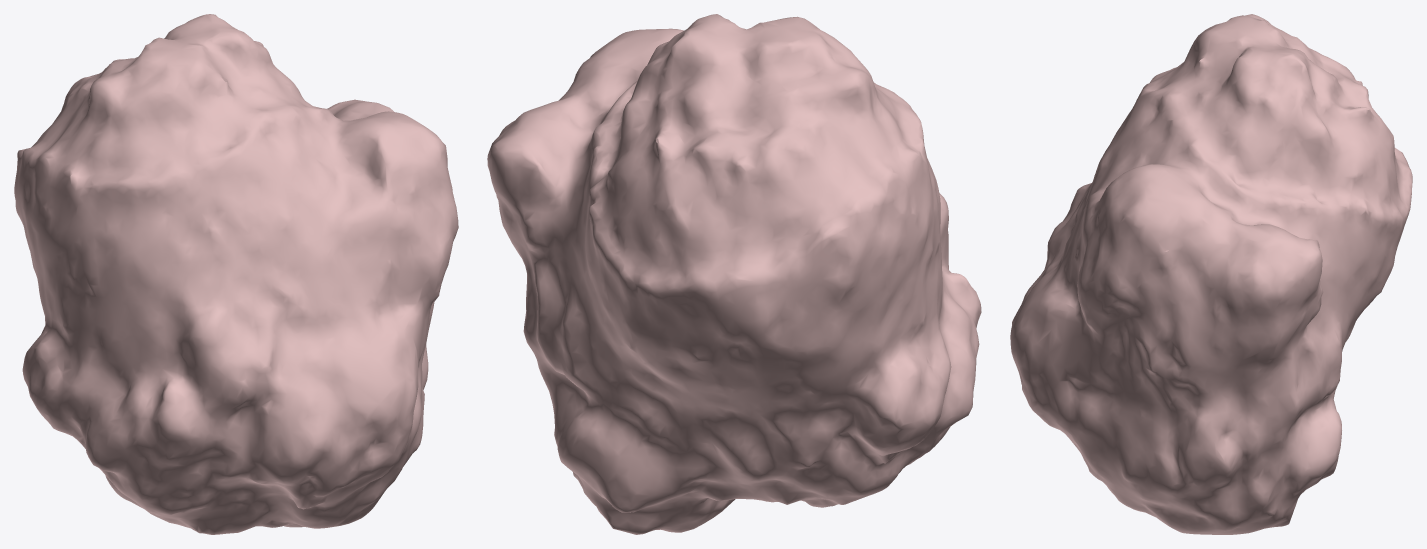
Rendered from 339809623046000_formazione_espansiva.glb.
3 views of the same model, side by side, from view 1: azimuth 30°, elevation 25°; view 2: azimuth 150°, elevation 25°; view 3: azimuth 270°, elevation 25° (orthographic). The views are drawn at different scales.
Visible parts, largest first — view 1: Formazione Espansiva Sinistra_LDs_Sort; view 2: Formazione Espansiva Sinistra_LDs_Sort; view 3: Formazione Espansiva Sinistra_LDs_Sort.
Part boxes in pixels (<box>): Formazione Espansiva Sinistra_LDs_Sort: <box>14,14,458,534</box>; Formazione Espansiva Sinistra_LDs_Sort: <box>487,14,981,534</box>; Formazione Espansiva Sinistra_LDs_Sort: <box>1010,14,1412,534</box>.
Bounding box in the file's own units: 0.00735 × 0.00876 × 0.00703.
